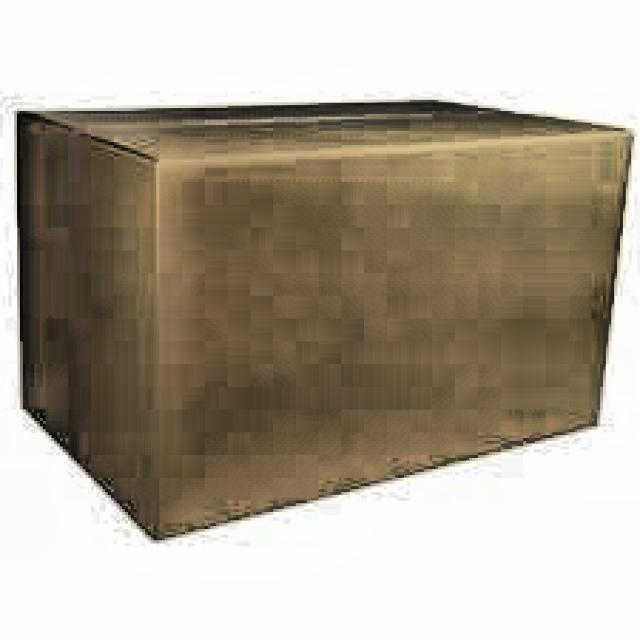cardboard: (15, 97, 634, 540)
